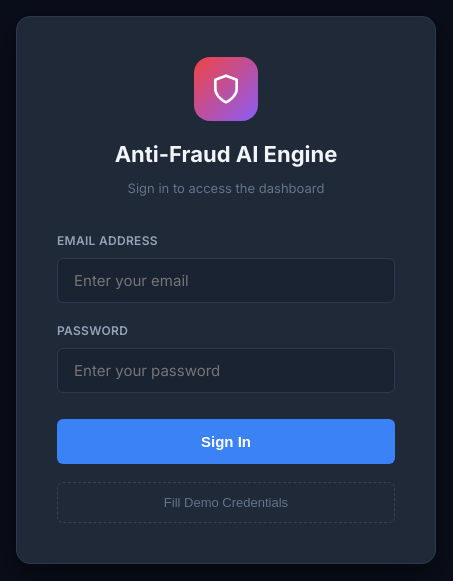
Scenario: Fill Demo Credentials fills both login fields without bypassing the normal sign-in action
Click the button "Fill Demo Credentials" at x=226, y=503, box [57, 482, 395, 523]
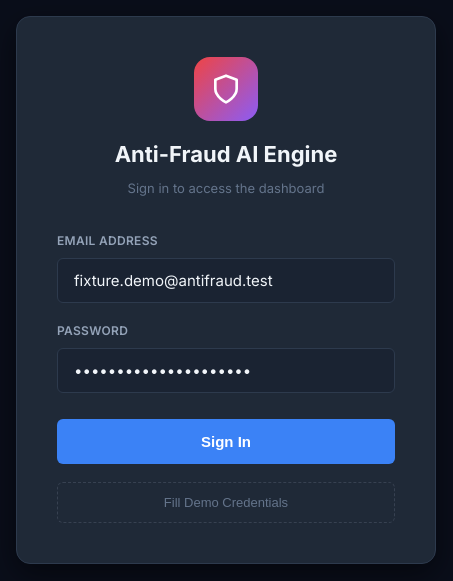
Check: the field holds "fixture.demo@antifraud.test", box [57, 258, 395, 303]
Check: the password field holds "fixture-only-password", box [57, 348, 395, 393]
